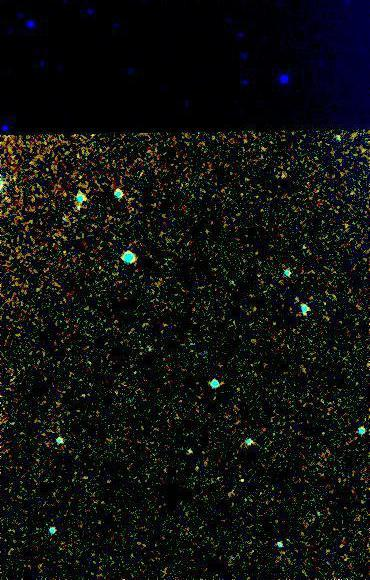star: (226, 466, 256, 496)
